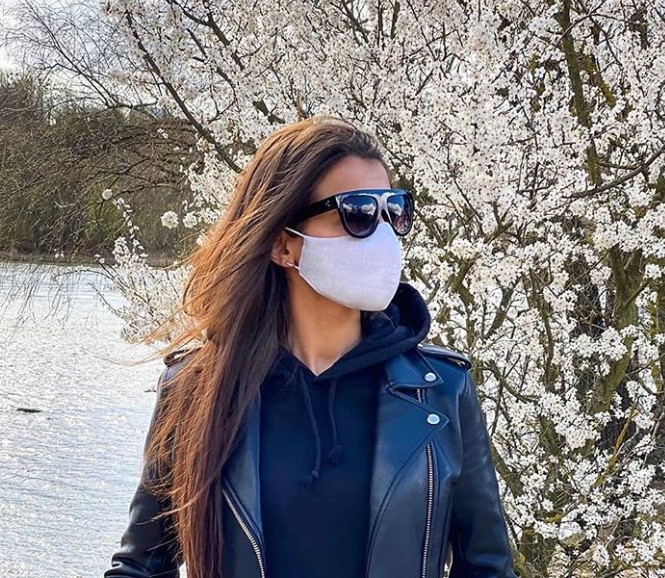face_with_mask: (256, 123, 419, 315)
